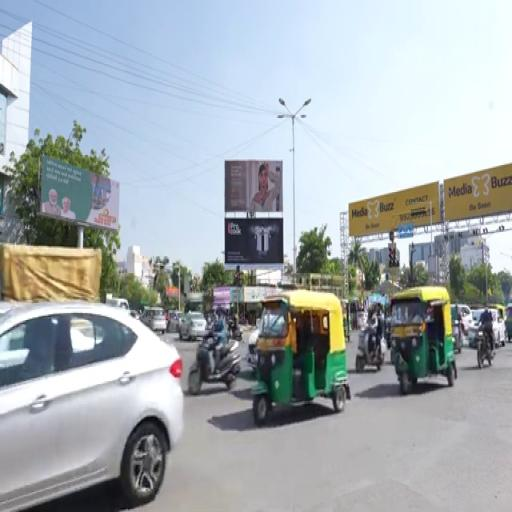Car: (0, 302, 183, 511), (179, 312, 206, 341), (248, 319, 261, 371), (141, 308, 167, 334), (452, 303, 474, 332), (468, 309, 483, 348), (168, 312, 182, 332)
